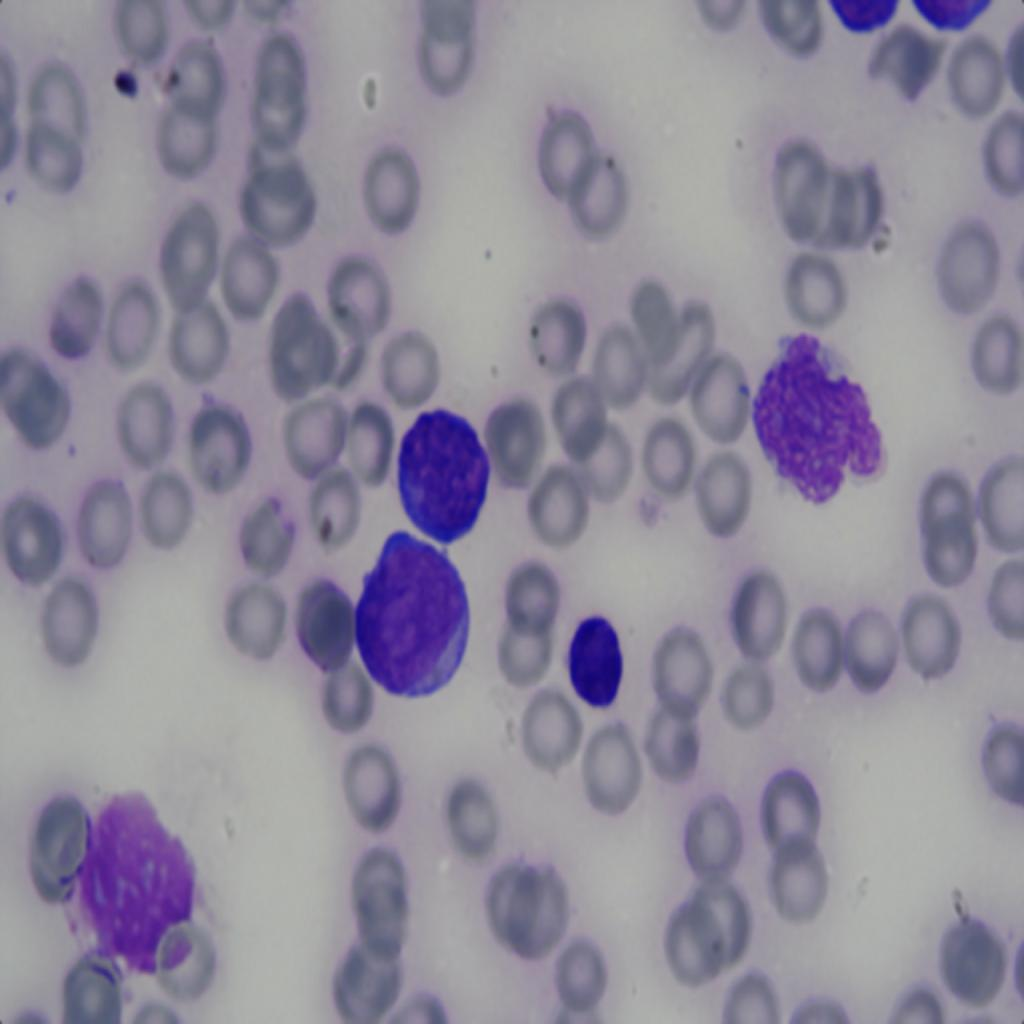Myeoblast: (743, 333, 885, 527), (349, 526, 471, 713), (71, 785, 203, 957), (386, 402, 492, 556), (558, 601, 638, 721)
